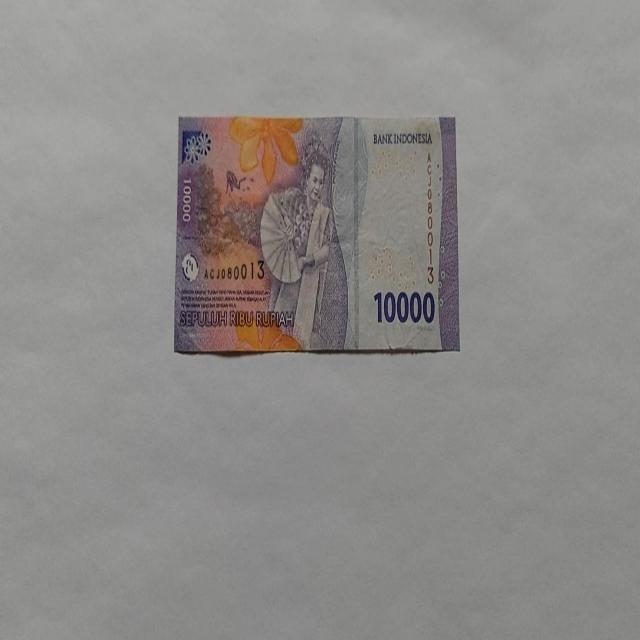Kertas: (173, 114, 459, 356), (373, 288, 435, 325)
